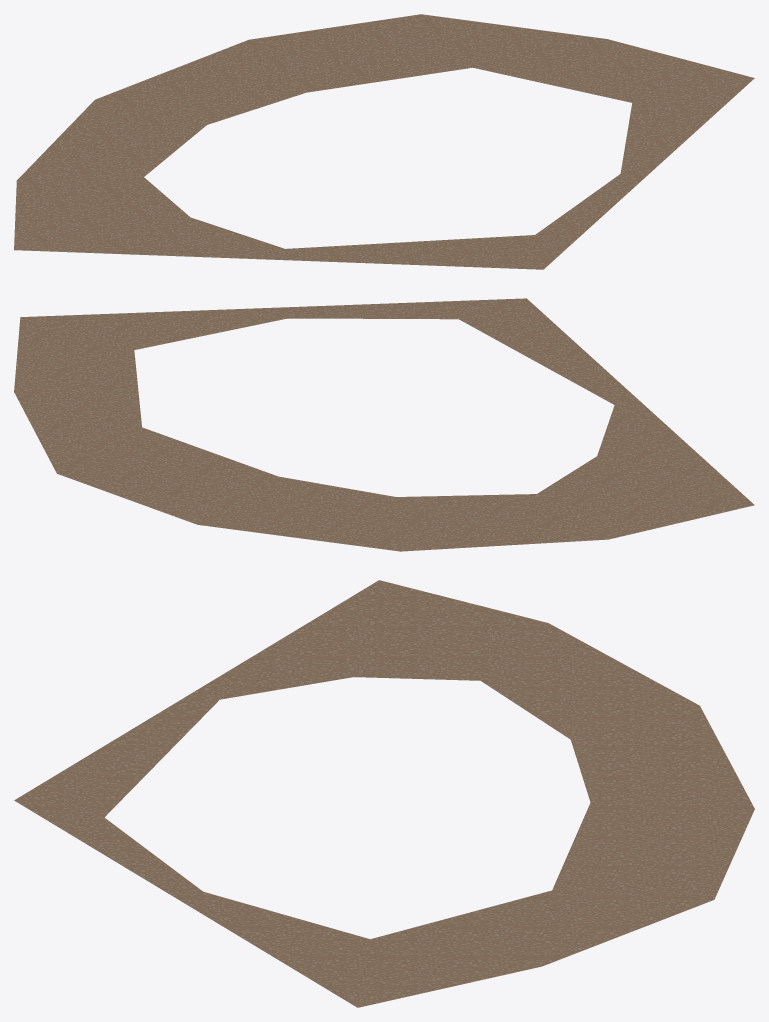
The model's file is kd_stage_13612f_4_70.glb.
3 views of the same model, one above another, from view 1: azimuth 30°, elevation 25°; view 2: azimuth 150°, elevation 25°; view 3: azimuth 270°, elevation 25° (orthographic). The views are drawn at different scales.
Visible parts, largest first — view 1: kd_stage_13612f_4_70; view 2: kd_stage_13612f_4_70; view 3: kd_stage_13612f_4_70.
Part boxes in pixels (bbox=[...]): kd_stage_13612f_4_70: bbox=[14, 14, 754, 269]; kd_stage_13612f_4_70: bbox=[14, 298, 754, 551]; kd_stage_13612f_4_70: bbox=[14, 580, 754, 1007].
Size of the model in its own units: 24.21 by 8.34e-07 by 17.72.
1 material, 1 textured.
